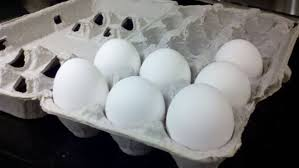eggs: (53, 35, 252, 151)
